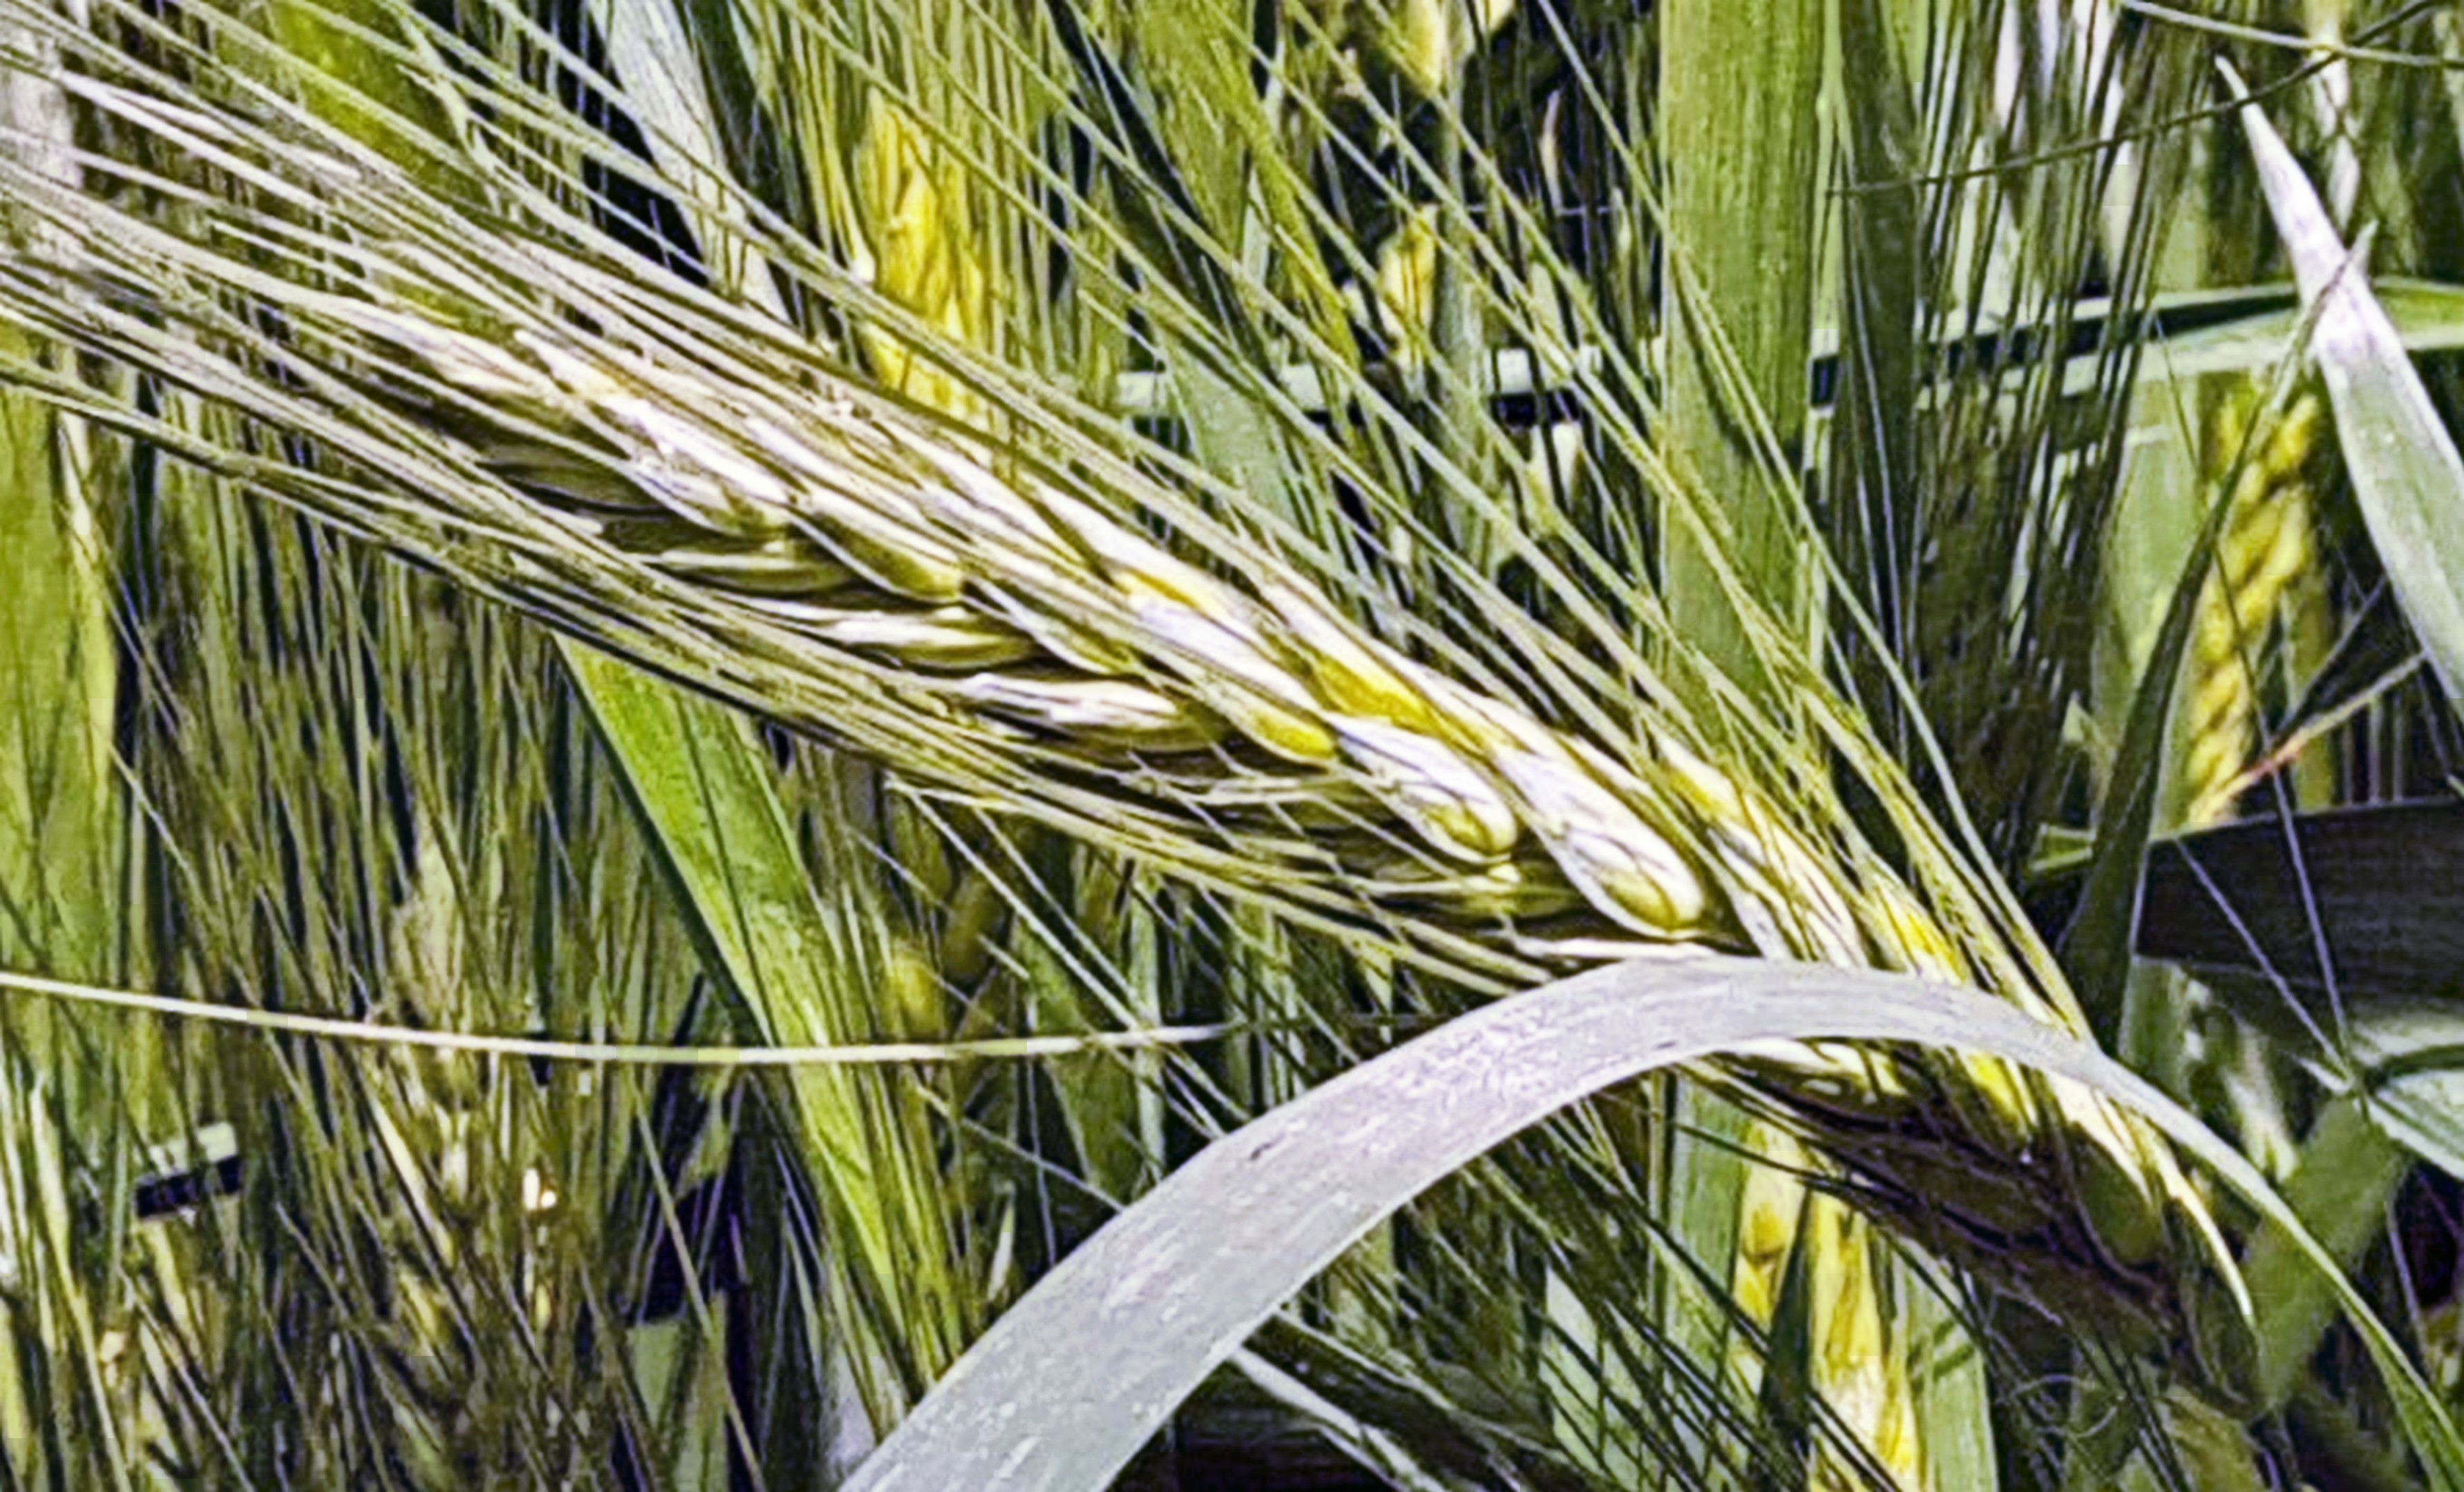Healthy Wheat: (435, 202, 2225, 1321)
